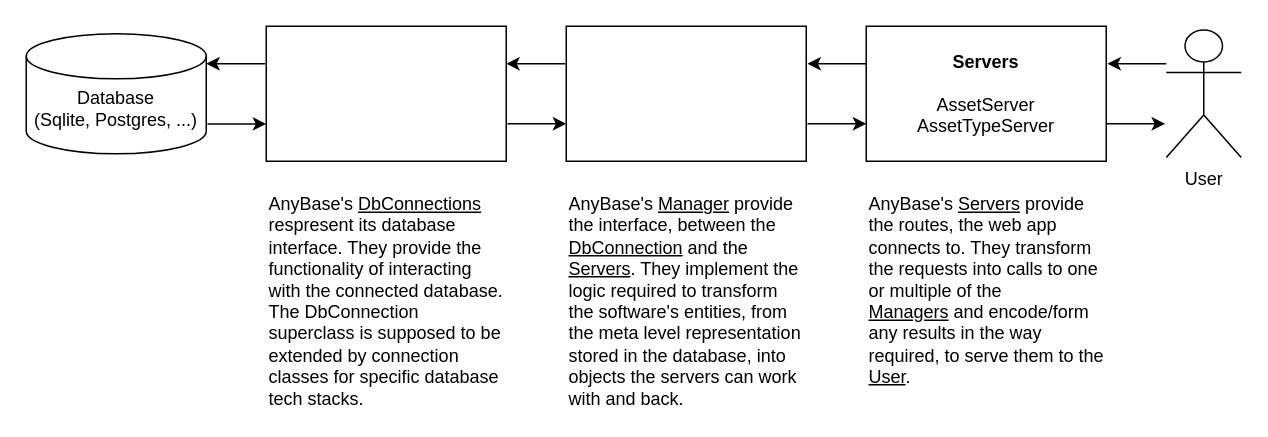
This 1268x437 diagram has some shape labels left out. Each missing label, with the box of its shape:
DbConnections SqliteConnection: (265, 25, 506, 161)
Managers AssetManager AssetTypeManager PageManager: (565, 25, 806, 161)
